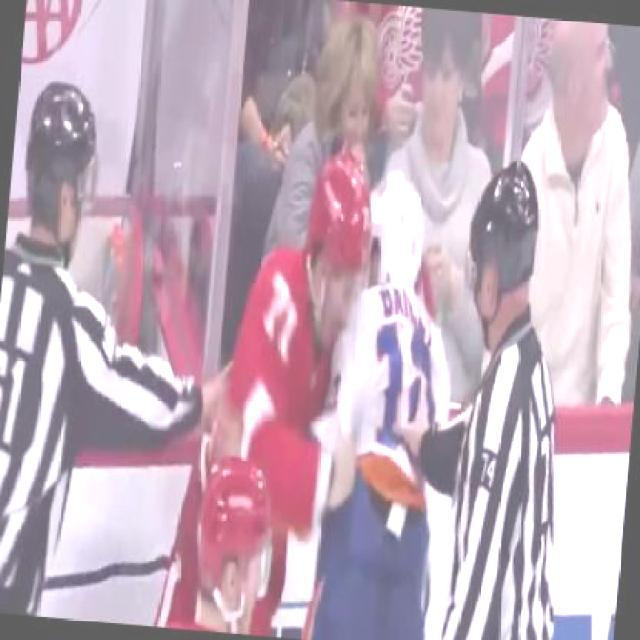fight: (204, 152, 473, 638)
non-fight: (426, 162, 594, 638), (0, 69, 140, 622), (503, 17, 639, 400)
